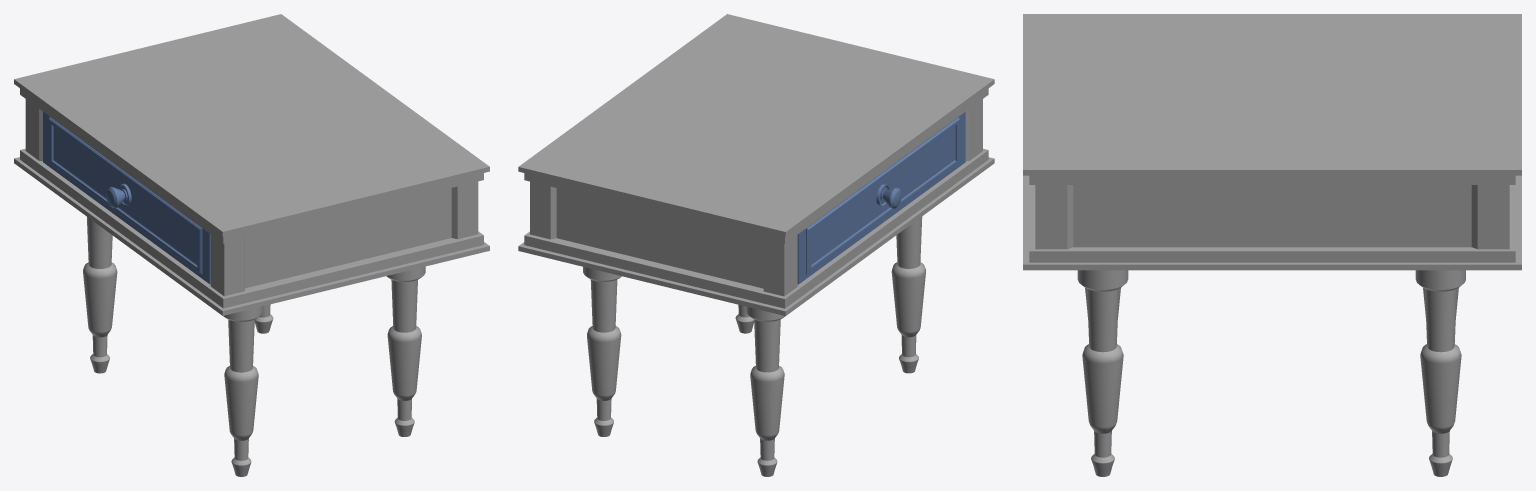
The model's file is Side_table_mesh.fbx.
3 renders of one model, left to right at view 1: azimuth 30°, elevation 25°; view 2: azimuth 150°, elevation 25°; view 3: azimuth 270°, elevation 25°, orthographic. The views are drawn at different scales.
Visible parts, largest first — view 1: polySurface164, polySurface152; view 2: polySurface164, polySurface152; view 3: polySurface164.
Boxes of the visible parts, bbox=[...] form: polySurface164: bbox=[14, 14, 489, 476]; polySurface152: bbox=[43, 112, 210, 284]; polySurface164: bbox=[518, 14, 994, 476]; polySurface152: bbox=[797, 112, 965, 284]; polySurface164: bbox=[1023, 14, 1521, 476].
Bounding box in the file's own units: 18.58 × 17.95 × 24.28.
